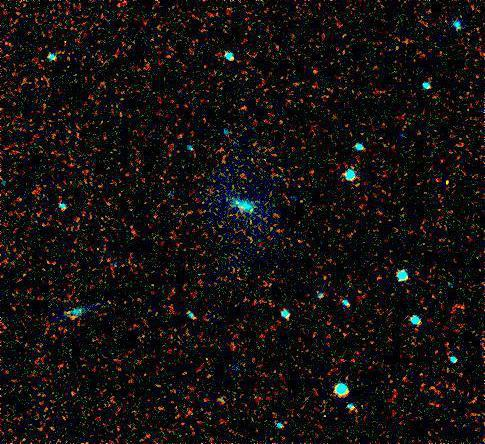star: (58, 302, 88, 332)
